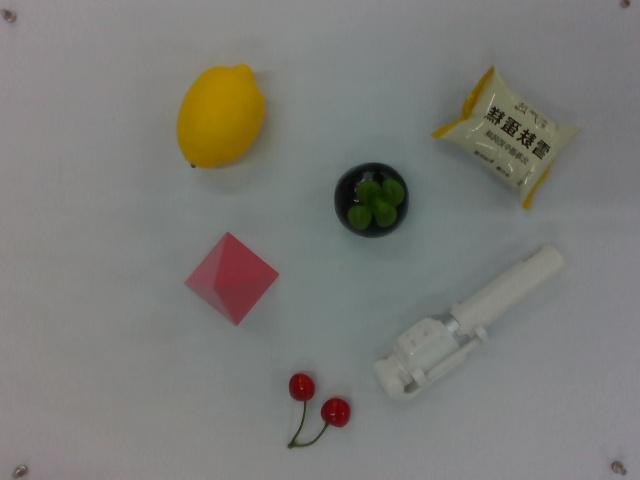cherry: (280, 372, 353, 455)
dessert: (438, 65, 574, 209)
lemon: (172, 61, 270, 175)
mangosteen: (333, 162, 411, 241)
pyramid: (183, 233, 278, 327)
selfiestick: (374, 241, 569, 406)
